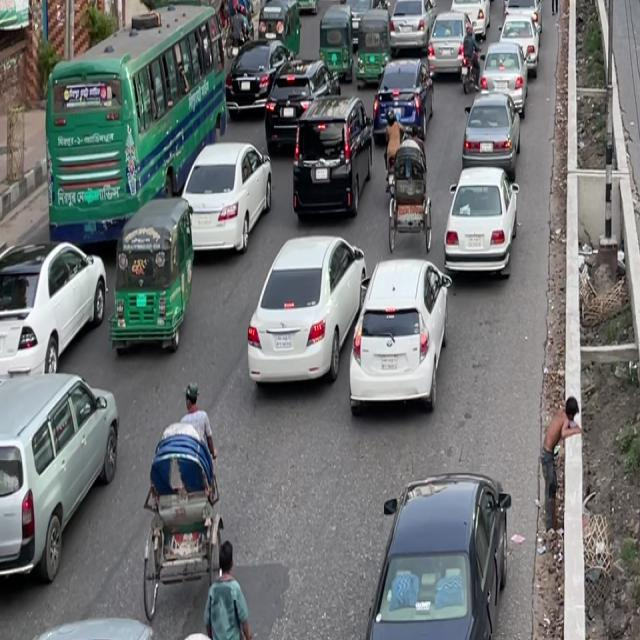car: (0, 365, 132, 600), (360, 455, 519, 634), (236, 220, 371, 405), (343, 240, 458, 425), (1, 225, 115, 398), (167, 128, 278, 268), (438, 155, 523, 293), (289, 100, 366, 231), (459, 84, 523, 178), (372, 55, 434, 151), (220, 38, 284, 122), (482, 38, 532, 114), (426, 8, 469, 88), (497, 0, 543, 73), (384, 0, 436, 58), (452, 0, 492, 39), (336, 0, 387, 22)
rickshaw: (100, 192, 198, 361), (381, 125, 434, 249), (350, 11, 391, 93), (316, 2, 354, 82), (286, 0, 324, 16), (431, 0, 460, 4)
